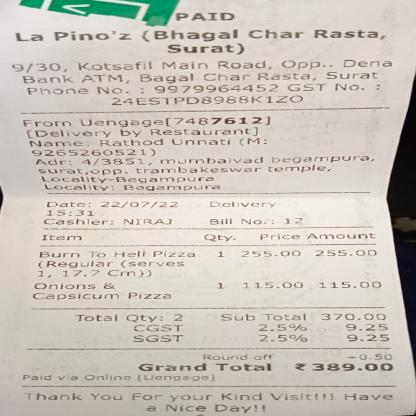receipts: (5, 3, 413, 413)
